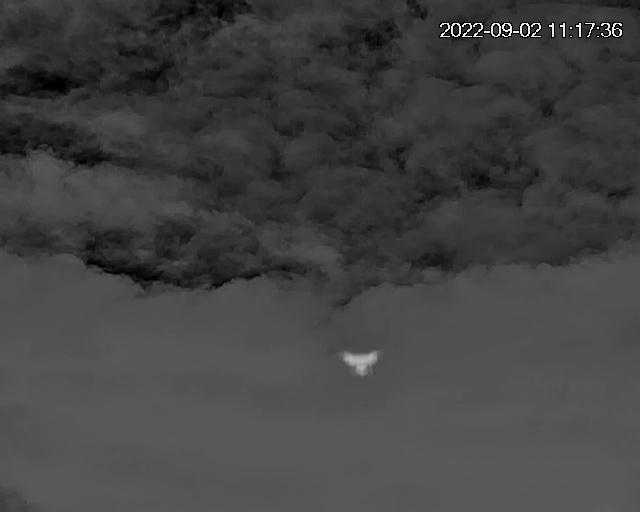DJI-Phantom: (341, 350, 383, 379)
